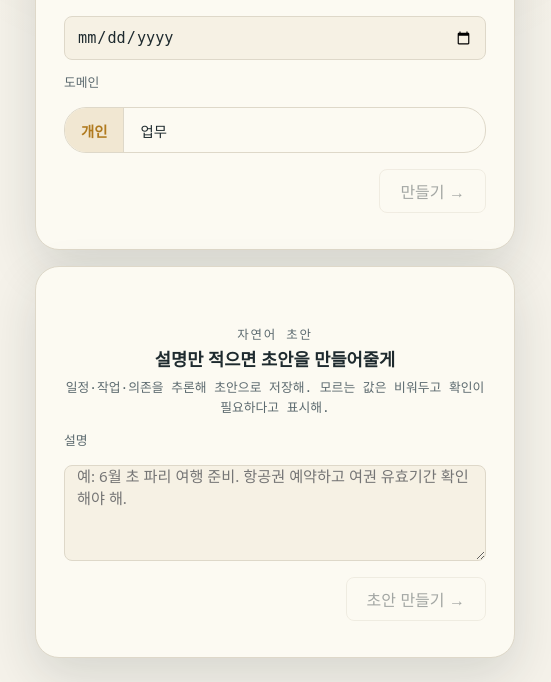
ThreadNew — natural-language draft (cycle-51) › draft submit posts to /api/threads/draft and shows a success summary with counts/warnings/link
(page scrolled)
Type "파리 여행 준비" into the text box named "자연어 초안 설명" at (275, 514), box x1=64 y1=466 x2=486 y2=562
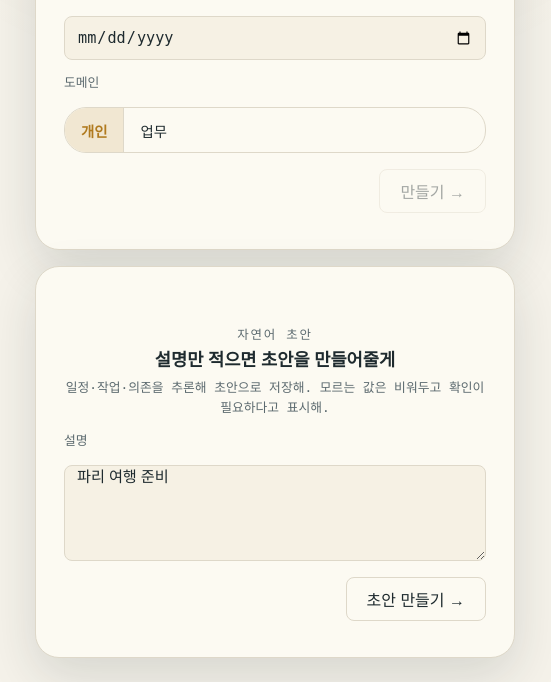
Click the button with aria-label "초안 만들기 제출" at (416, 600), box x1=346 y1=578 x2=486 y2=622
(page scrolled)
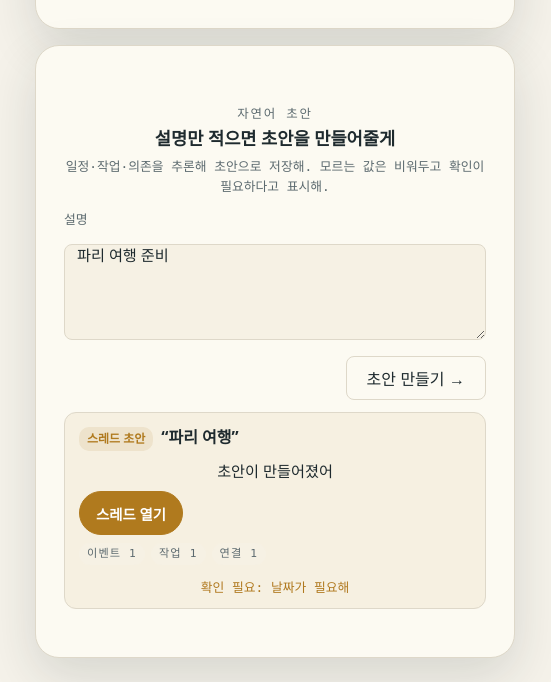
Expected: the message with test id "thread-draft-success" shows "이벤트 1", x1=64 y1=412 x2=486 y2=609
Expected: the message with test id "thread-draft-success" shows "작업 1", x1=64 y1=412 x2=486 y2=609
Expected: the message with test id "thread-draft-success" shows "연결 1", x1=64 y1=412 x2=486 y2=609
